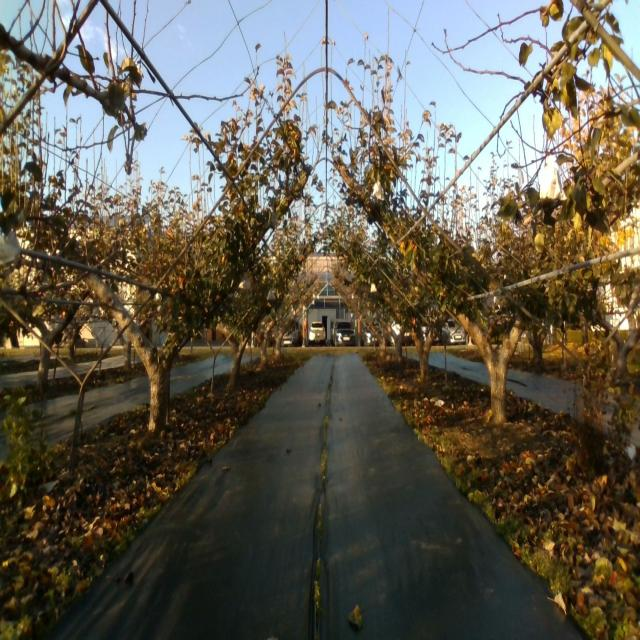pearbags: (538, 160, 566, 201), (0, 231, 21, 269), (372, 180, 385, 201)
